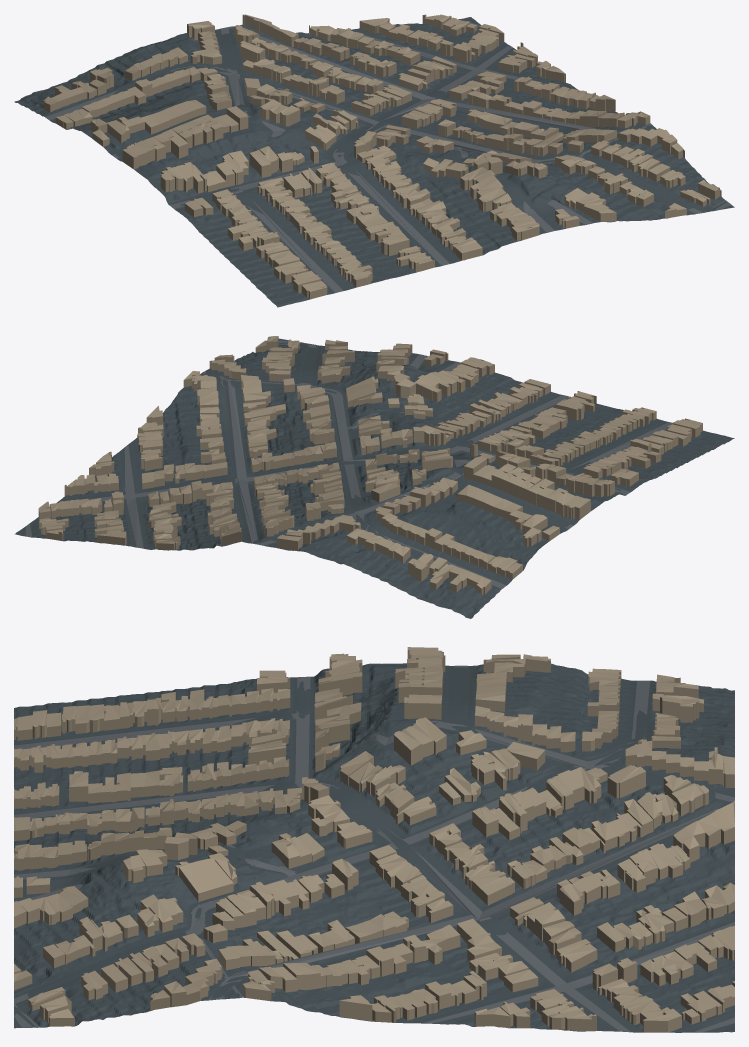
The model's file is epsg26910-1427-10871.lod0.glb.
The picture shows the model from 3 angles, top to bottom: view 1: azimuth 30°, elevation 25°; view 2: azimuth 150°, elevation 25°; view 3: azimuth 270°, elevation 25°; orthographic projection. The views are drawn at different scales.
Visible parts, largest first — view 1: epsg26910-1427-10871-lod0; view 2: epsg26910-1427-10871-lod0; view 3: epsg26910-1427-10871-lod0.
Boxes of the visible parts, x1=… form: epsg26910-1427-10871-lod0: x1=14, y1=14, x2=734, y2=307; epsg26910-1427-10871-lod0: x1=14, y1=336, x2=734, y2=618; epsg26910-1427-10871-lod0: x1=14, y1=647, x2=734, y2=1032.
Bounding box in the file's own units: 384 × 59.46 × 384.
